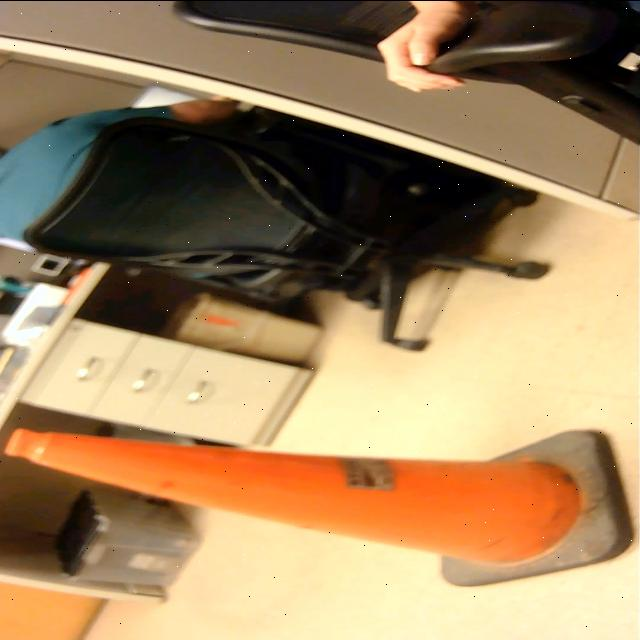traffic cone: (1, 420, 640, 591)
